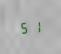five: (19, 20, 29, 34)
one: (30, 20, 40, 33)
